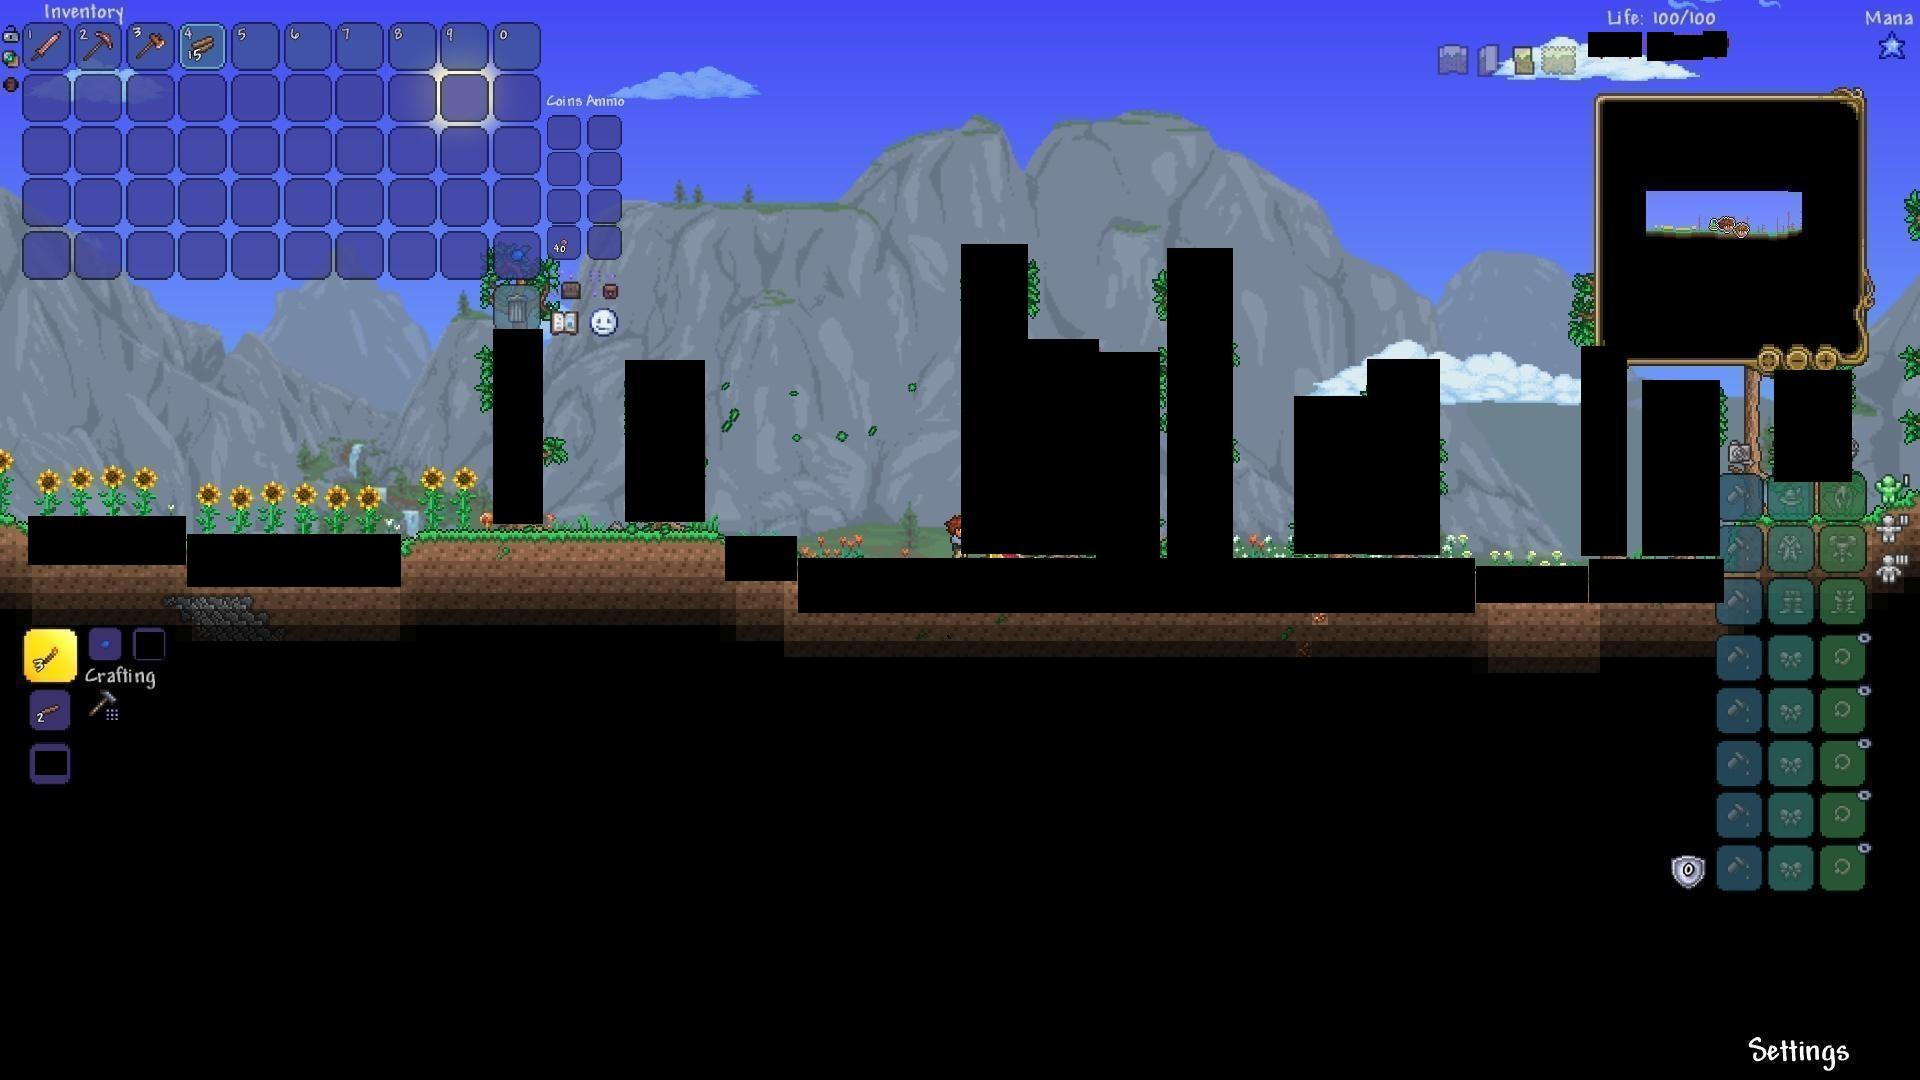dirt: (404, 526, 724, 571), (0, 506, 29, 549)
wood: (187, 32, 219, 62)
